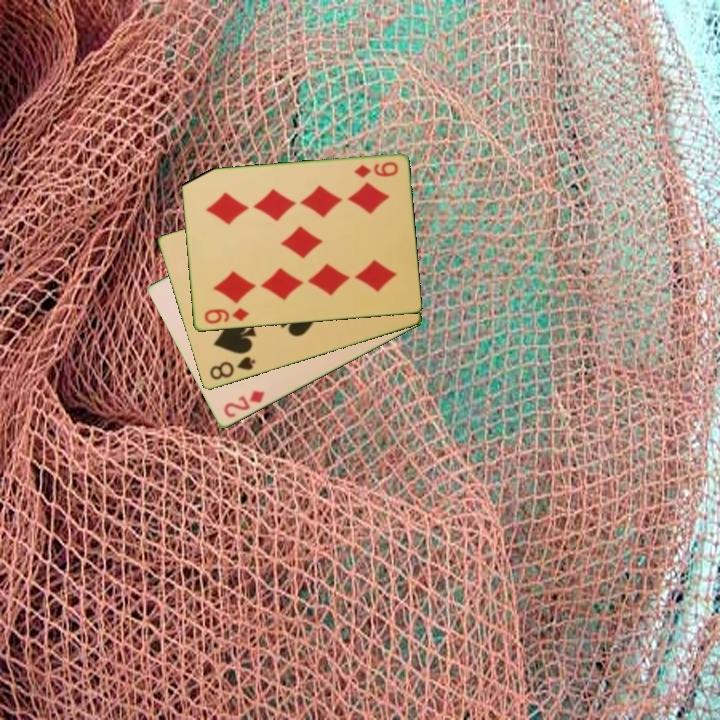2d: (220, 387, 268, 421)
8s: (206, 353, 258, 383)
9d: (200, 304, 251, 327), (351, 158, 401, 181)
